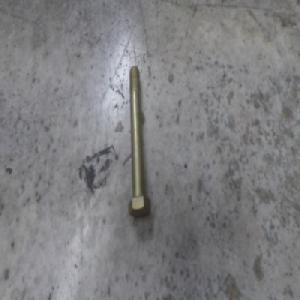Bolt: (126, 66, 151, 217)
